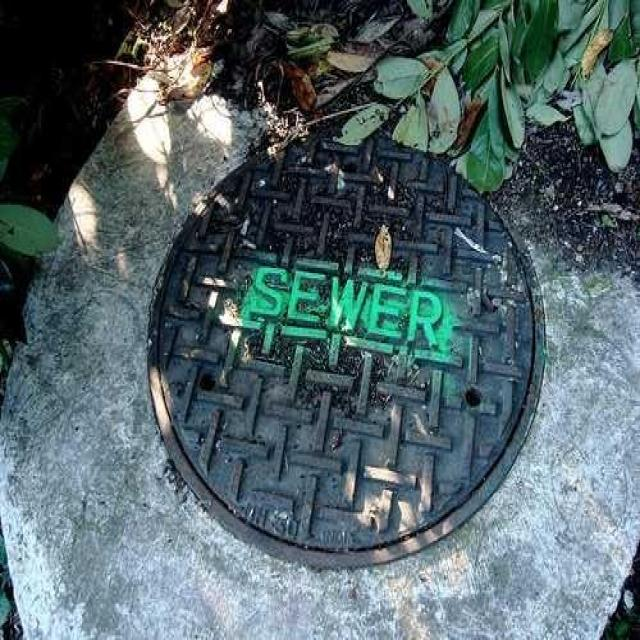manhole: (146, 133, 544, 572)
